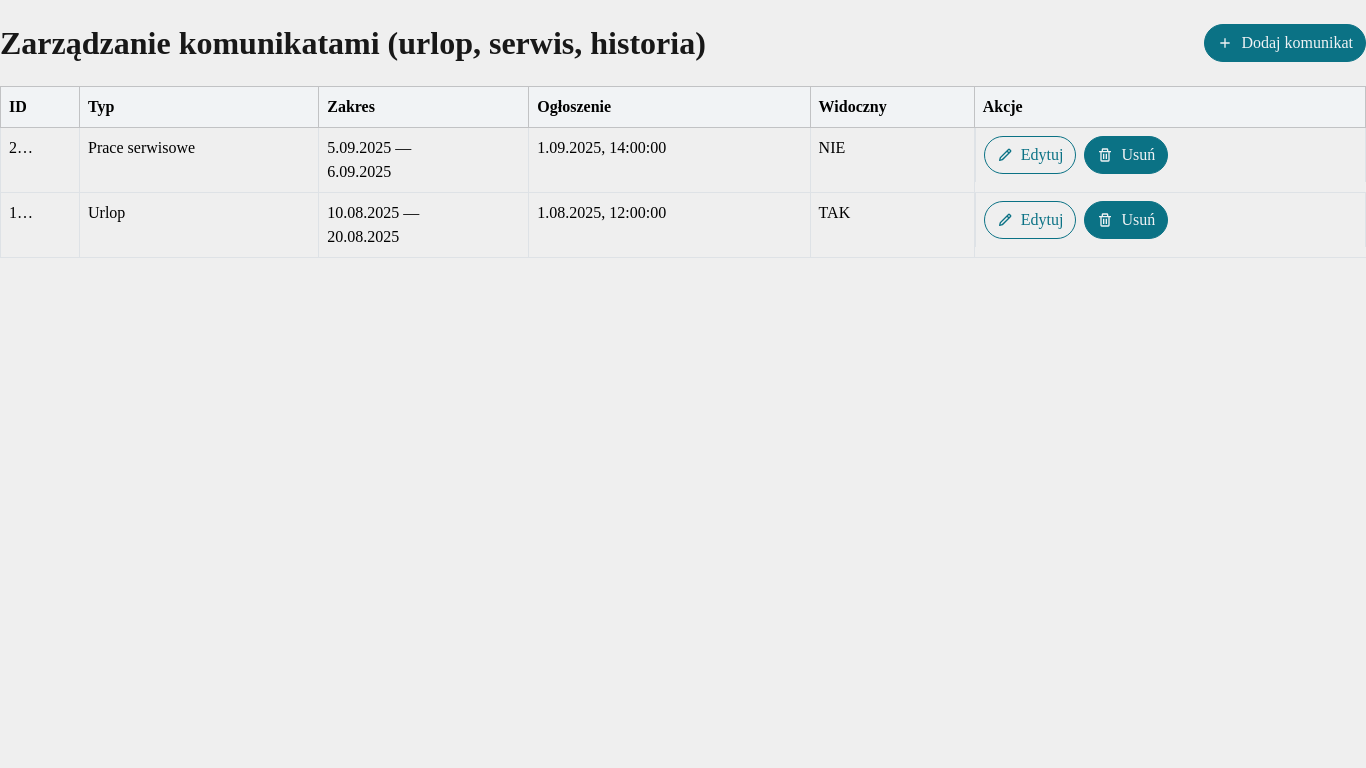
Scenario: VacationAdminPage › edits a banner and shows success message
This screenshot has width=1366, height=768.
Click the button with test id "edit-banner-1" at [1030, 220], box [984,201,1076,239]
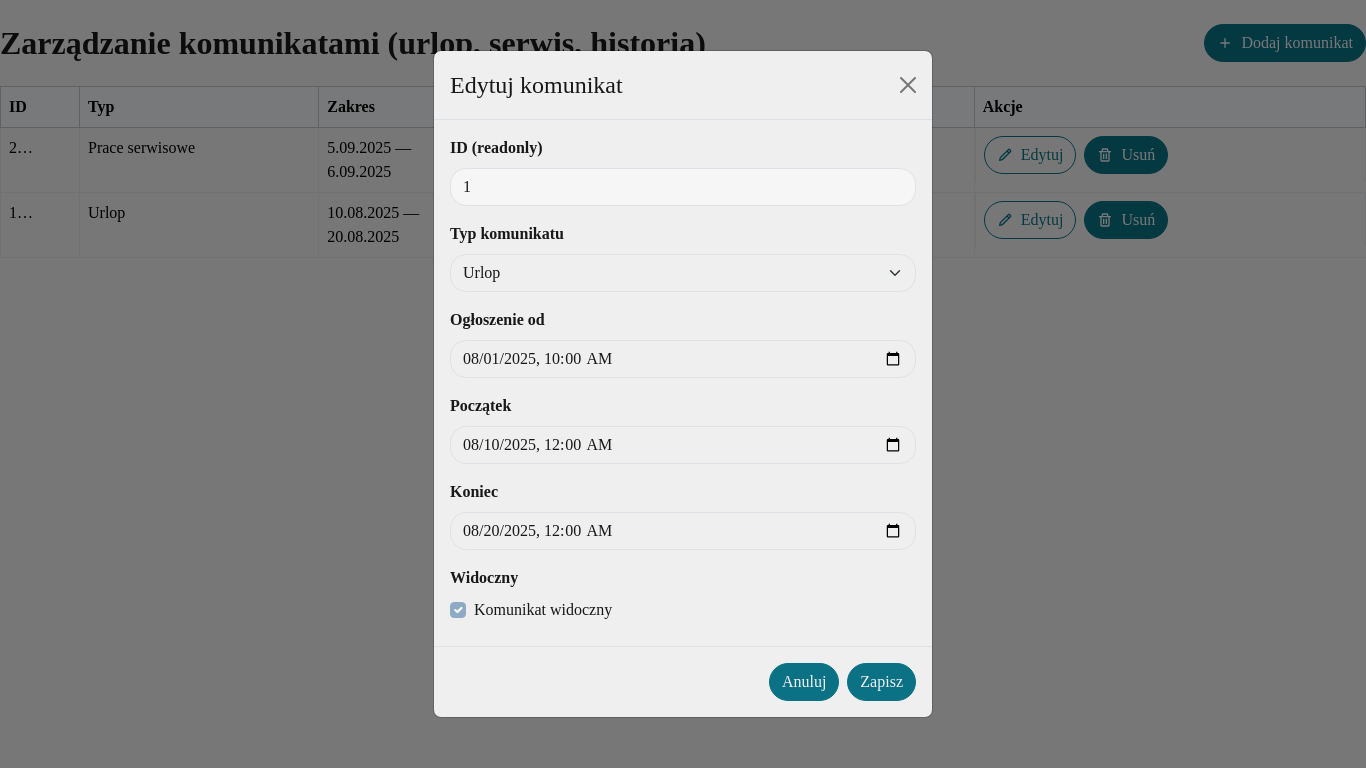
Replace the text in the field labelled "Początek" with "2025-08-11T00:00" at [683, 445], box [450,426,916,464]
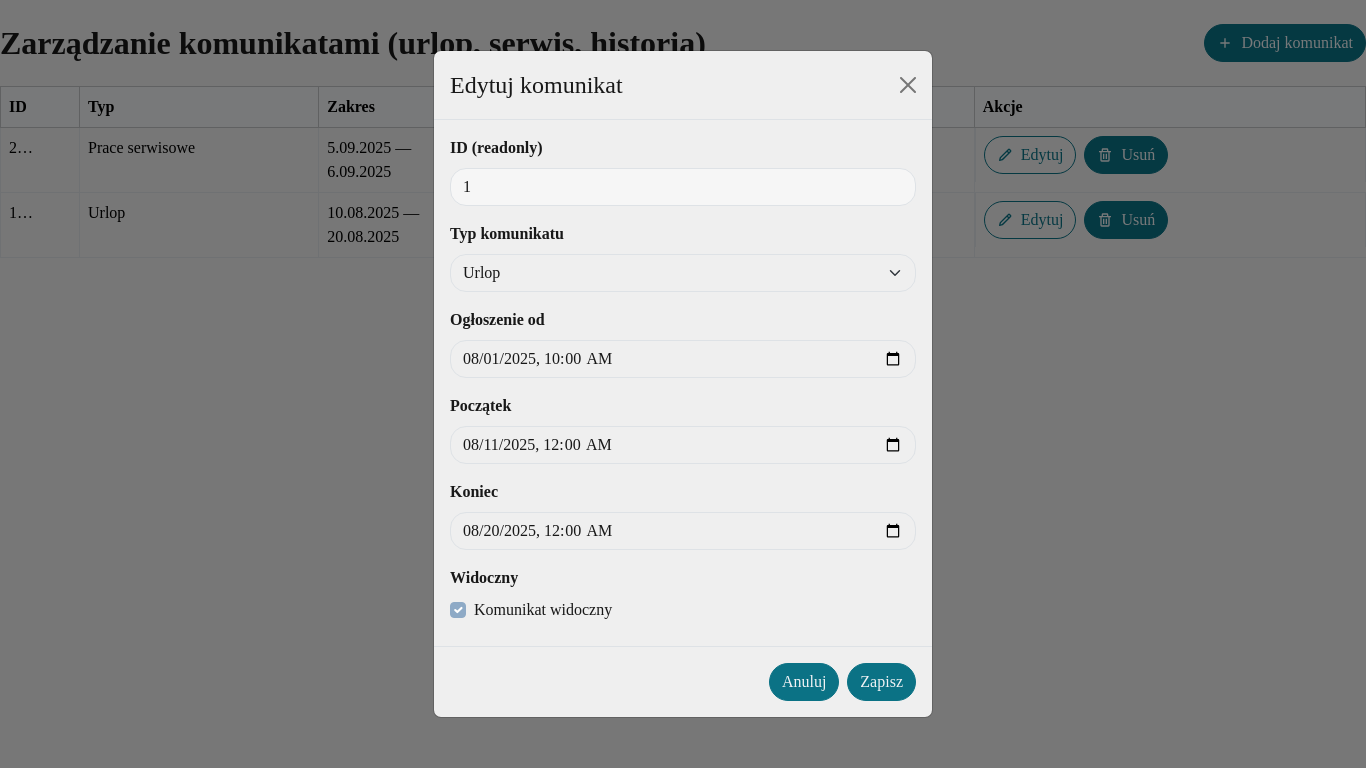
Click the button with test id "modal-submit-button" at [882, 682], box [847,663,916,701]
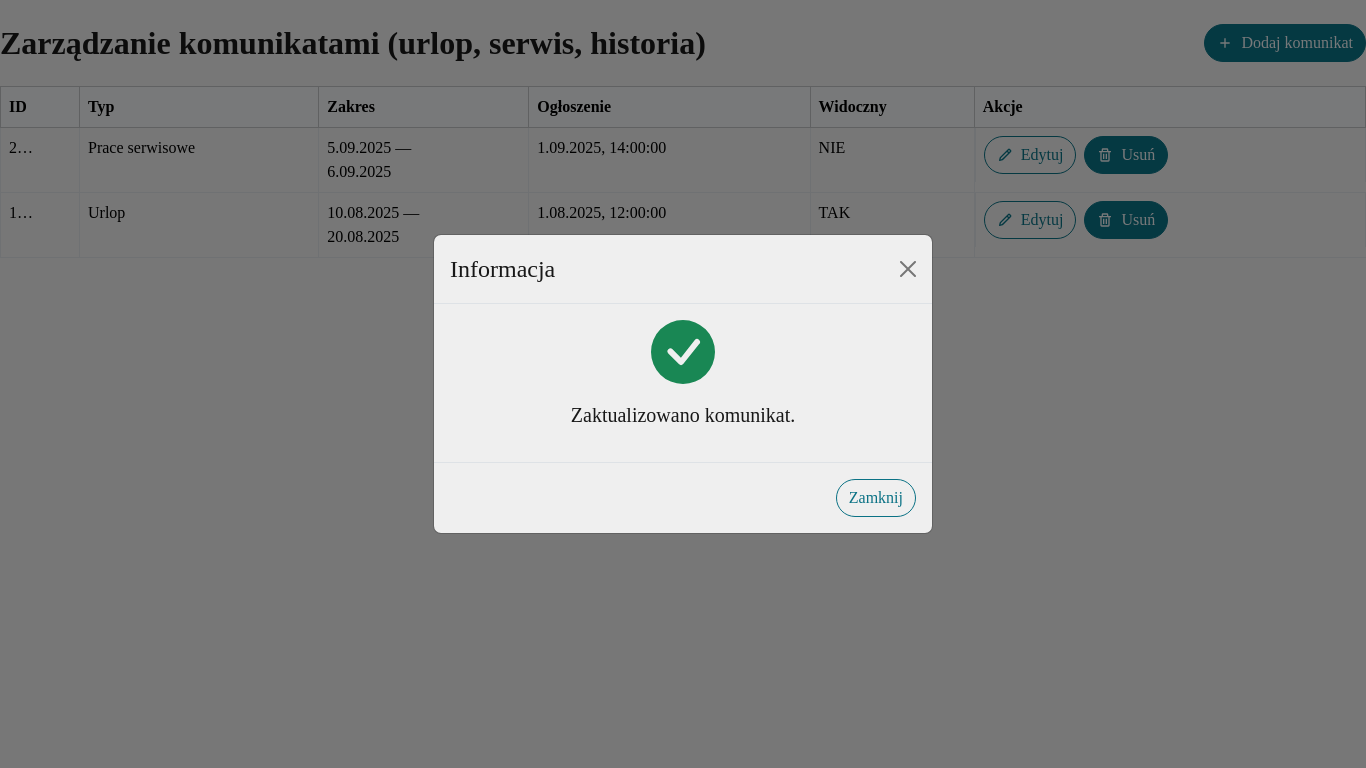
Expected: the text "Zaktualizowano komunikat." is shown, [571,404,795,426]
